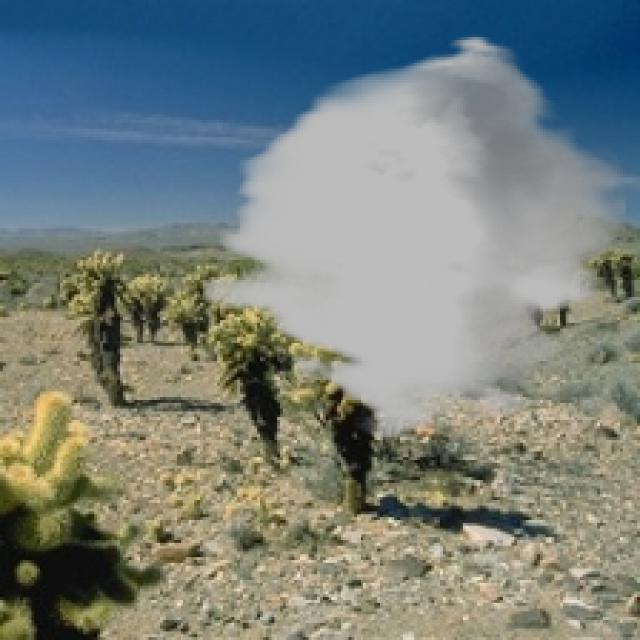smoke: (203, 34, 626, 440)
